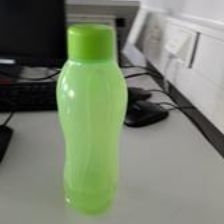bottle: (52, 18, 129, 211)
